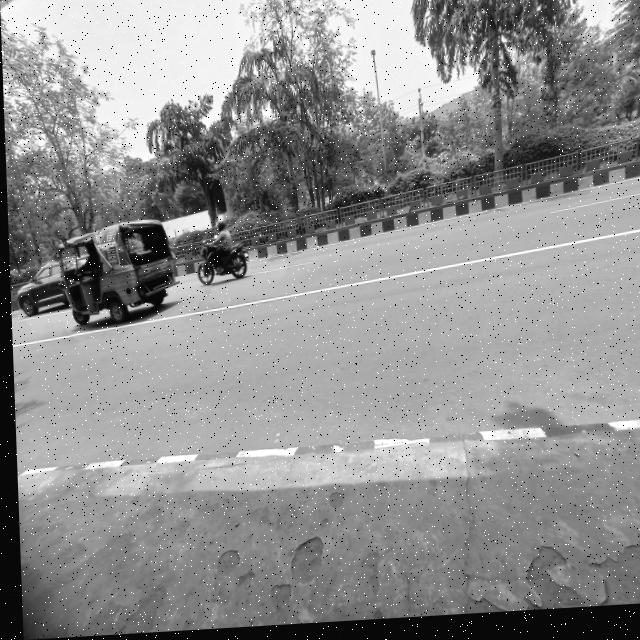bike: (193, 242, 252, 287)
car: (11, 259, 65, 326)
